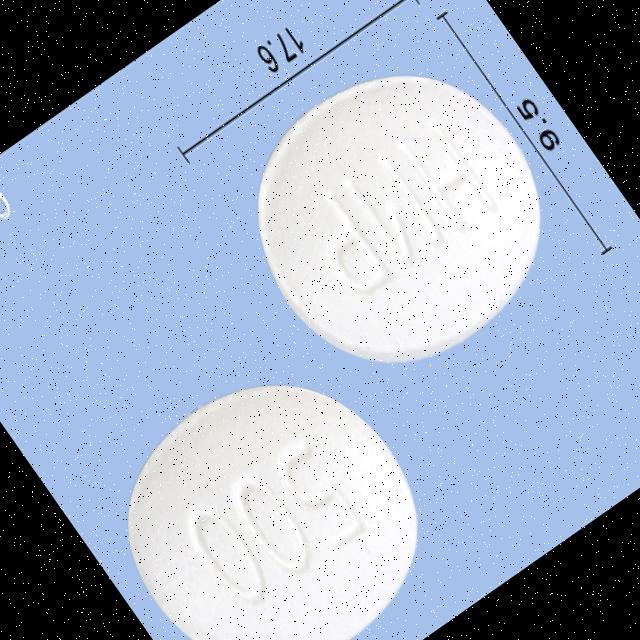Amoclan Duo Tab- Myungmoon: (198, 17, 596, 416), (71, 323, 471, 640)
